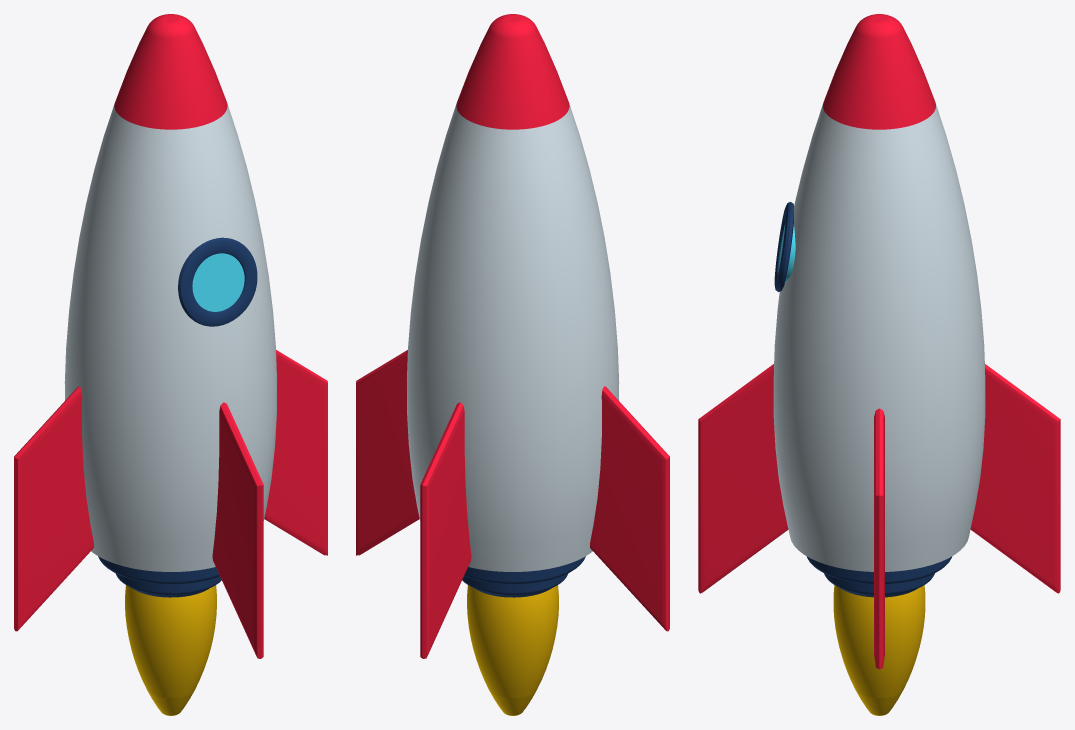
File: Rocket.obj
3 views of the same model, side by side, from view 1: azimuth 30°, elevation 25°; view 2: azimuth 150°, elevation 25°; view 3: azimuth 270°, elevation 25° (orthographic).
Parts seen in each view (by area): view 1: 005_rocket_body, 002_wings, 003_rocket_body_top, 006_flame, 001_window, 004_engine, 000_glass; view 2: 005_rocket_body, 002_wings, 003_rocket_body_top, 006_flame, 004_engine; view 3: 005_rocket_body, 002_wings, 003_rocket_body_top, 006_flame, 004_engine, 001_window.
Part boxes in pixels (left/top/right/bottom): 005_rocket_body: left=64, top=104, right=277, bottom=571; 002_wings: left=14, top=350, right=327, bottom=658; 003_rocket_body_top: left=114, top=14, right=227, bottom=129; 006_flame: left=125, top=585, right=216, bottom=715; 001_window: left=178, top=237, right=257, bottom=326; 004_engine: left=98, top=556, right=221, bottom=597; 000_glass: left=192, top=253, right=244, bottom=311; 005_rocket_body: left=406, top=104, right=619, bottom=571; 002_wings: left=356, top=350, right=669, bottom=658; 003_rocket_body_top: left=456, top=14, right=569, bottom=129; 006_flame: left=467, top=585, right=558, bottom=715; 004_engine: left=462, top=556, right=585, bottom=597; 005_rocket_body: left=773, top=104, right=985, bottom=571; 002_wings: left=698, top=364, right=1060, bottom=669; 003_rocket_body_top: left=823, top=14, right=935, bottom=129; 006_flame: left=833, top=585, right=925, bottom=715; 004_engine: left=806, top=556, right=952, bottom=597; 001_window: left=774, top=202, right=793, bottom=291.
Bounding box in the file's own units: 69.2 × 147 × 69.2.
